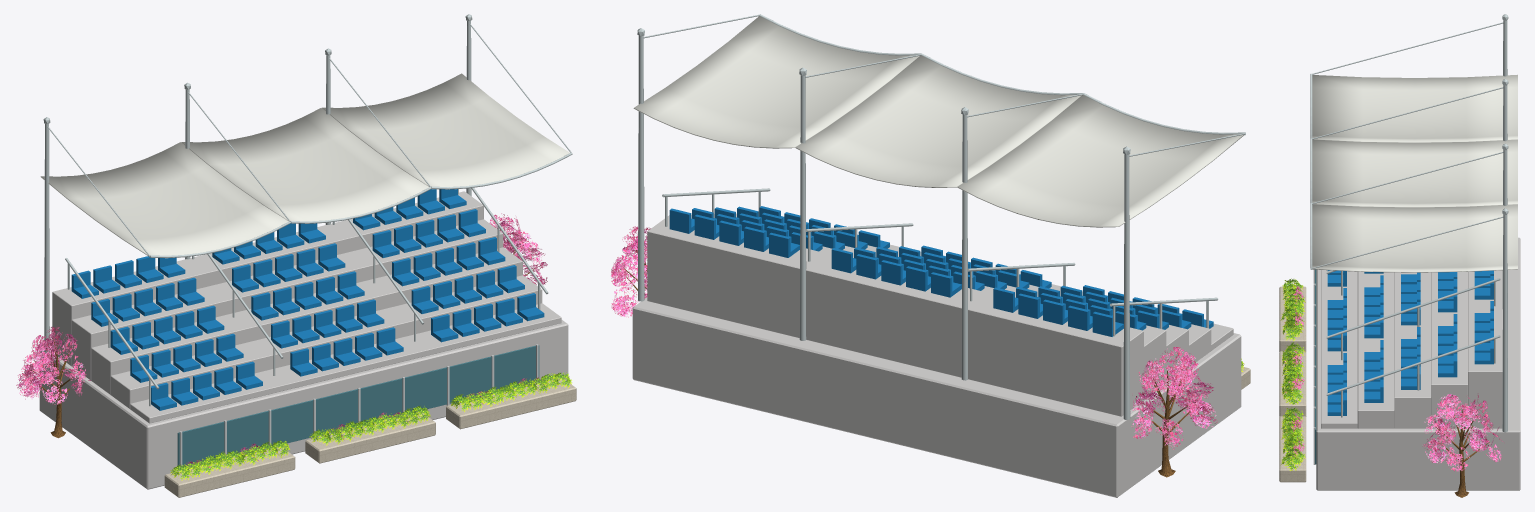
Rendered from P07_stand_canopy_v2.glb.
3 renders of one model, left to right at view 1: azimuth 30°, elevation 25°; view 2: azimuth 150°, elevation 25°; view 3: azimuth 270°, elevation 25°, orthographic. The views are drawn at different scales.
Parts seen in each view (by area): view 1: GAME_Concrete, GAME_V2_Tensile_membrane, GAME_V2_Blue_seat, GAME_Opaque tinted glazing, GAME_V2_Stand_concrete, GAME_V2_Structural_steel, GAME_V2_Leaf_cutout, GAME_V2_Blossom_cutout, GAME_Steel, GAME_V2_Bark; view 2: GAME_Concrete, GAME_V2_Tensile_membrane, GAME_V2_Blue_seat, GAME_V2_Structural_steel, GAME_V2_Blossom_cutout, GAME_V2_Bark; view 3: GAME_V2_Tensile_membrane, GAME_Concrete, GAME_V2_Blue_seat, GAME_V2_Structural_steel, GAME_V2_Blossom_cutout, GAME_V2_Leaf_cutout, GAME_V2_Stand_concrete, GAME_V2_Bark, GAME_Steel, GAME_Opaque tinted glazing.
Boxes of the visible parts, bbox=[...] form: GAME_Concrete: bbox=[39, 191, 568, 489]; GAME_V2_Tensile_membrane: bbox=[40, 73, 569, 256]; GAME_V2_Blue_seat: bbox=[71, 189, 544, 410]; GAME_Opaque tinted glazing: bbox=[177, 345, 539, 467]; GAME_V2_Stand_concrete: bbox=[164, 378, 576, 497]; GAME_V2_Structural_steel: bbox=[43, 14, 572, 406]; GAME_V2_Leaf_cutout: bbox=[170, 372, 571, 480]; GAME_V2_Blossom_cutout: bbox=[16, 213, 547, 469]; GAME_Steel: bbox=[179, 344, 538, 466]; GAME_V2_Bark: bbox=[31, 229, 534, 438]; GAME_Concrete: bbox=[632, 213, 1241, 497]; GAME_V2_Tensile_membrane: bbox=[633, 16, 1243, 227]; GAME_V2_Blue_seat: bbox=[669, 206, 1213, 336]; GAME_V2_Structural_steel: bbox=[637, 14, 1245, 419]; GAME_V2_Blossom_cutout: bbox=[611, 226, 1217, 449]; GAME_V2_Bark: bbox=[624, 242, 1190, 477]; GAME_V2_Tensile_membrane: bbox=[1312, 74, 1517, 272]; GAME_Concrete: bbox=[1316, 237, 1520, 490]; GAME_V2_Blue_seat: bbox=[1327, 270, 1493, 415]; GAME_V2_Structural_steel: bbox=[1310, 14, 1508, 432]; GAME_V2_Blossom_cutout: bbox=[1284, 283, 1504, 471]; GAME_V2_Leaf_cutout: bbox=[1280, 278, 1305, 470]; GAME_V2_Stand_concrete: bbox=[1279, 286, 1306, 482]; GAME_V2_Bark: bbox=[1436, 406, 1489, 497]; GAME_Steel: bbox=[1313, 269, 1315, 464]; GAME_Opaque tinted glazing: bbox=[1315, 269, 1316, 464].
Size of the model in its own units: 11.35 by 6.12 by 4.72.
10 materials, 4 textured.
